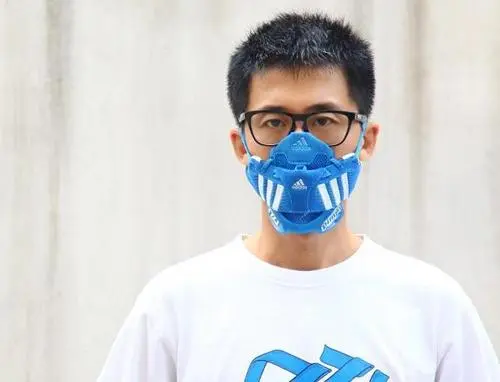withmask: (215, 11, 394, 244)
